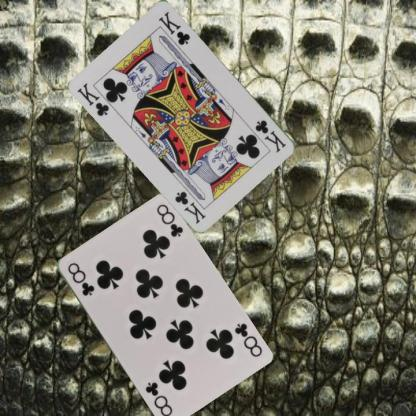8c: (64, 258, 96, 298), (231, 320, 264, 358)
Kc: (74, 80, 111, 118), (252, 118, 288, 154)
